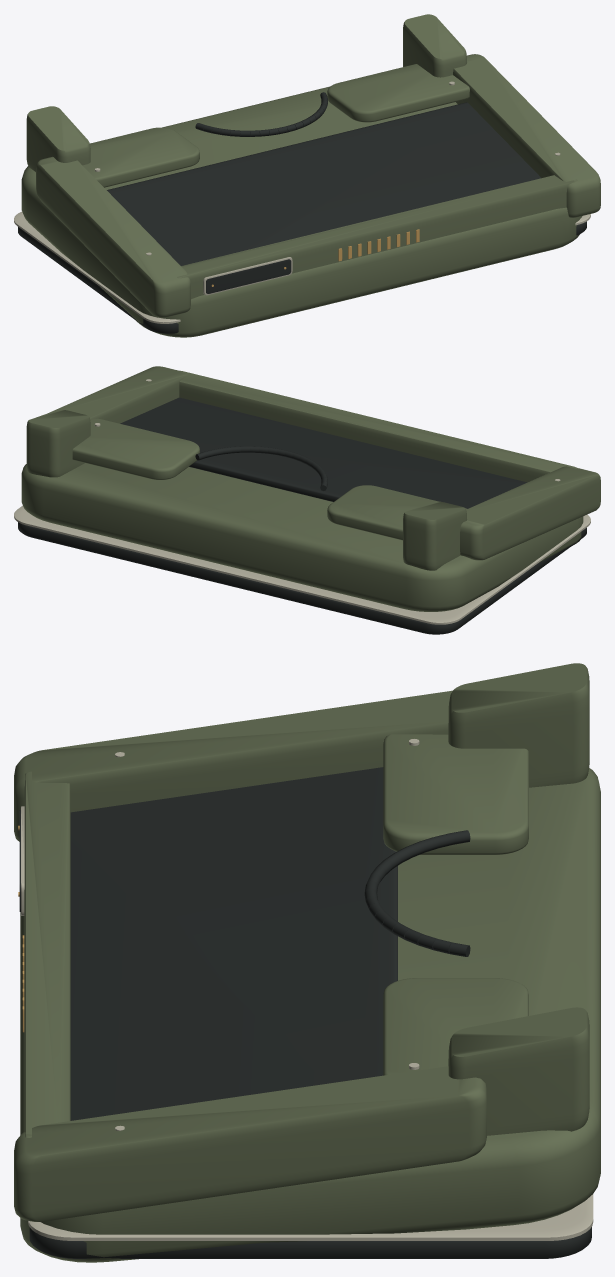
The model's file is Traveller.glb.
3 views of the same model, one above another, from view 1: azimuth 30°, elevation 25°; view 2: azimuth 150°, elevation 25°; view 3: azimuth 270°, elevation 25° (orthographic). The views are drawn at different scales.
Visible parts, largest first — view 1: Keyboard well, Cast chassis, Enamel cheek (×2), Front fascia, Spool platform (×2), Carriage bearing (×2), Maker plate, Rolled lower pan, Chassis parting seam, Badge surround; view 2: Cast chassis, Keyboard well, Enamel cheek (×2), Front fascia, Spool platform (×2), Carriage bearing (×2), Rolled lower pan, Chassis parting seam; view 3: Keyboard well, Enamel cheek (×2), Cast chassis, Carriage bearing (×2), Spool platform (×2), Front fascia, Rolled lower pan, Chassis parting seam.
Part boxes in pixels (x1,y1,x2,y2): Keyboard well: [107, 102, 541, 265]; Cast chassis: [21, 86, 582, 337]; Enamel cheek (×2): [36, 54, 600, 317]; Front fascia: [177, 175, 577, 299]; Spool platform (×2): [82, 64, 469, 187]; Carriage bearing (×2): [26, 14, 466, 171]; Maker plate: [206, 259, 291, 293]; Rolled lower pan: [18, 221, 586, 333]; Chassis parting seam: [14, 211, 590, 323]; Badge surround: [203, 257, 292, 295]; Cast chassis: [21, 463, 583, 611]; Keyboard well: [120, 397, 527, 508]; Enamel cheek (×2): [49, 366, 600, 560]; Front fascia: [177, 370, 577, 482]; Spool platform (×2): [72, 418, 466, 540]; Carriage bearing (×2): [26, 409, 466, 570]; Rolled lower pan: [18, 522, 586, 634]; Chassis parting seam: [14, 505, 590, 624]; Keyboard well: [70, 767, 397, 1120]; Enamel cheek (×2): [14, 690, 486, 1221]; Cast chassis: [20, 768, 600, 1262]; Carriage bearing (×2): [448, 663, 589, 1135]; Spool platform (×2): [383, 734, 528, 1075]; Front fascia: [24, 771, 70, 1137]; Rolled lower pan: [29, 1227, 591, 1258]; Chassis parting seam: [28, 1194, 593, 1240].
Size of the model in its own units: 6.89 by 1.81 by 4.2.
